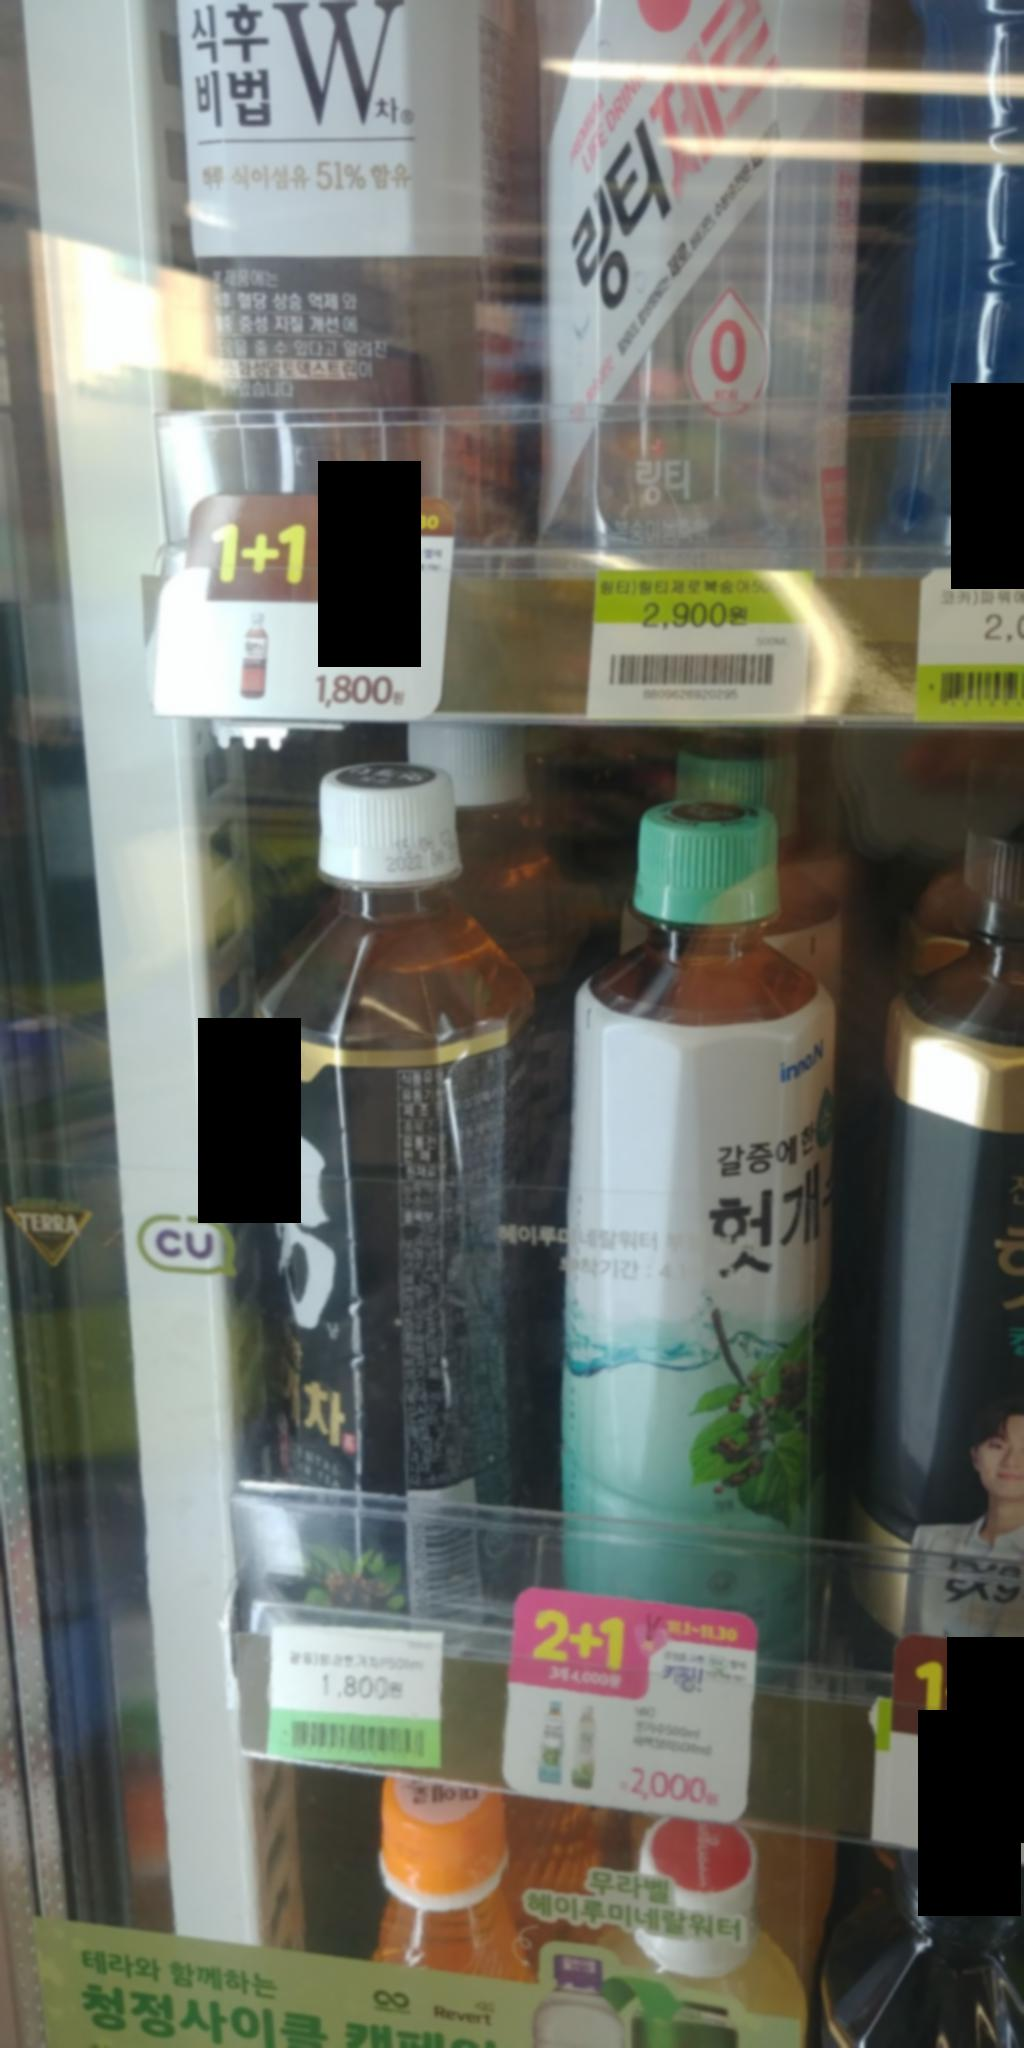heotgaecha: (242, 738, 560, 1651)
